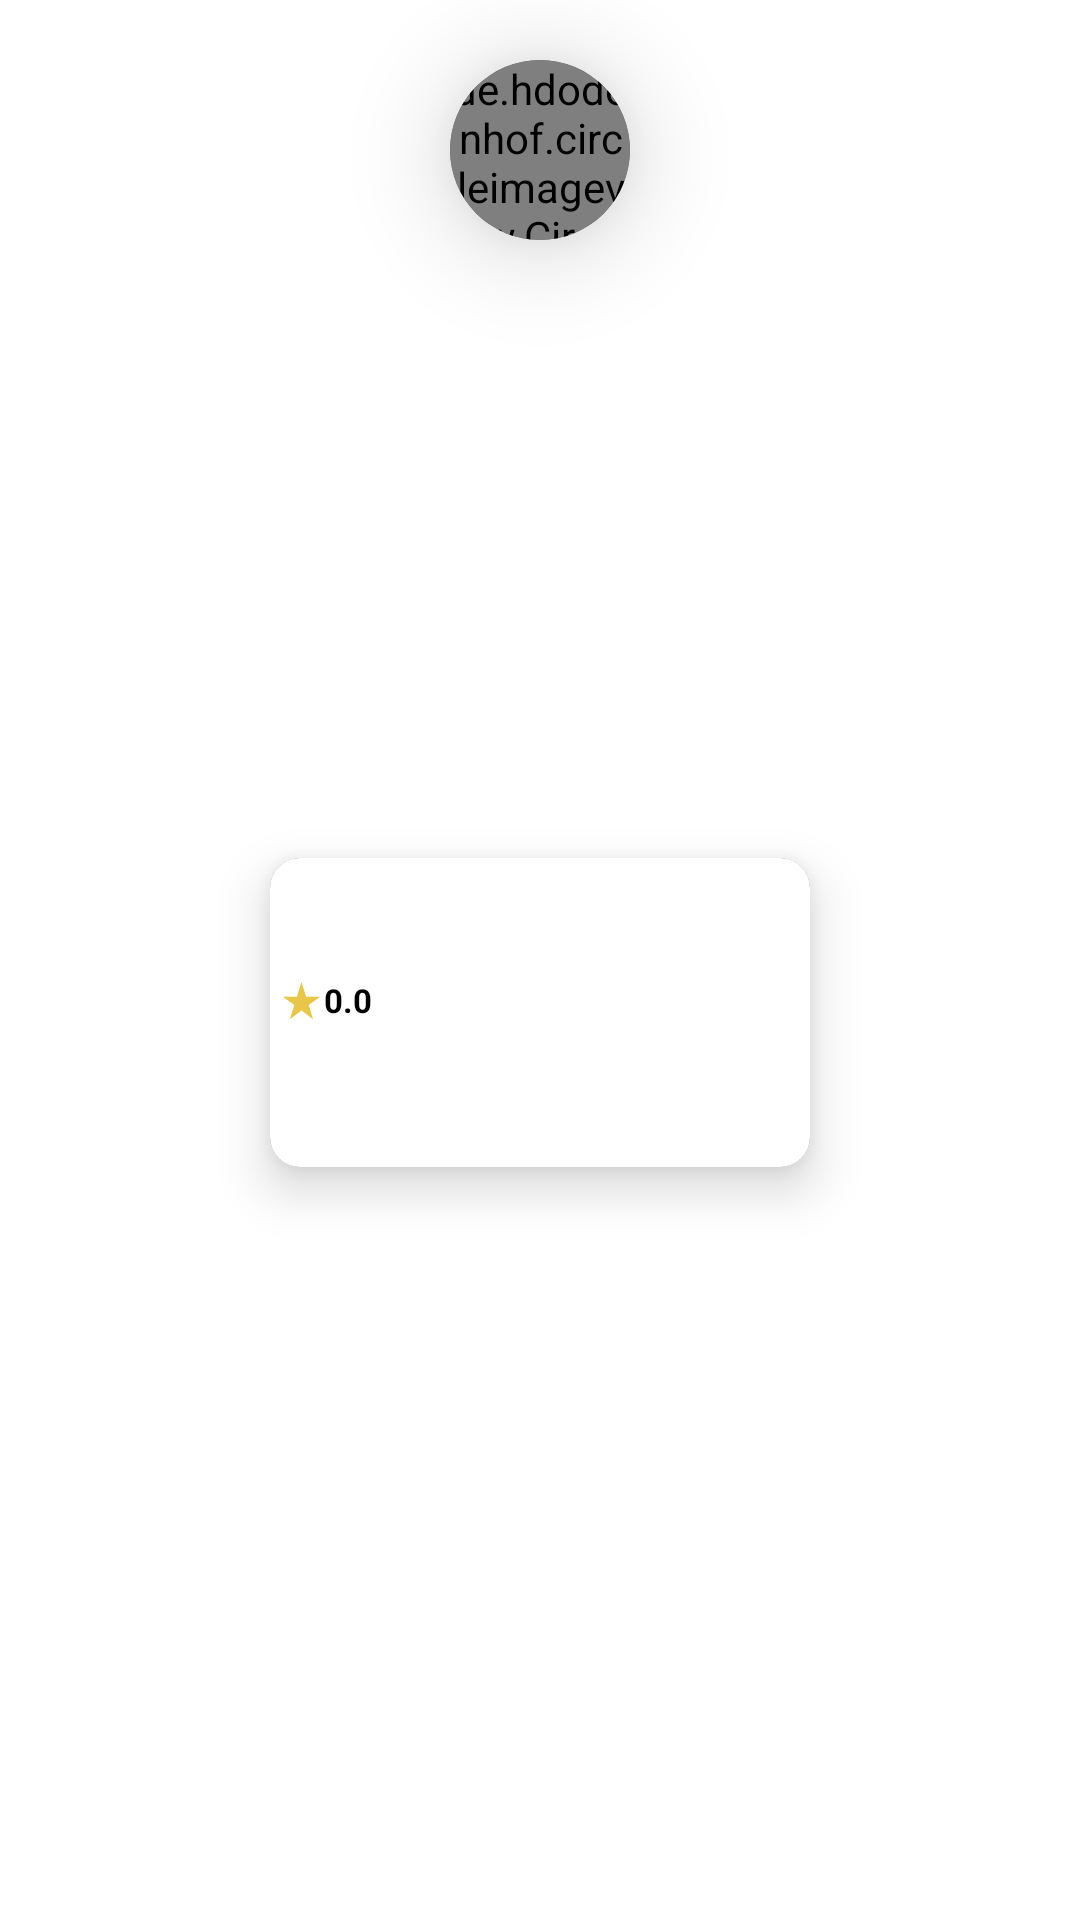

Icon click points for this 1080 x 1920 phone screenshot, format point (x, y):
rate: point (301, 1000)
